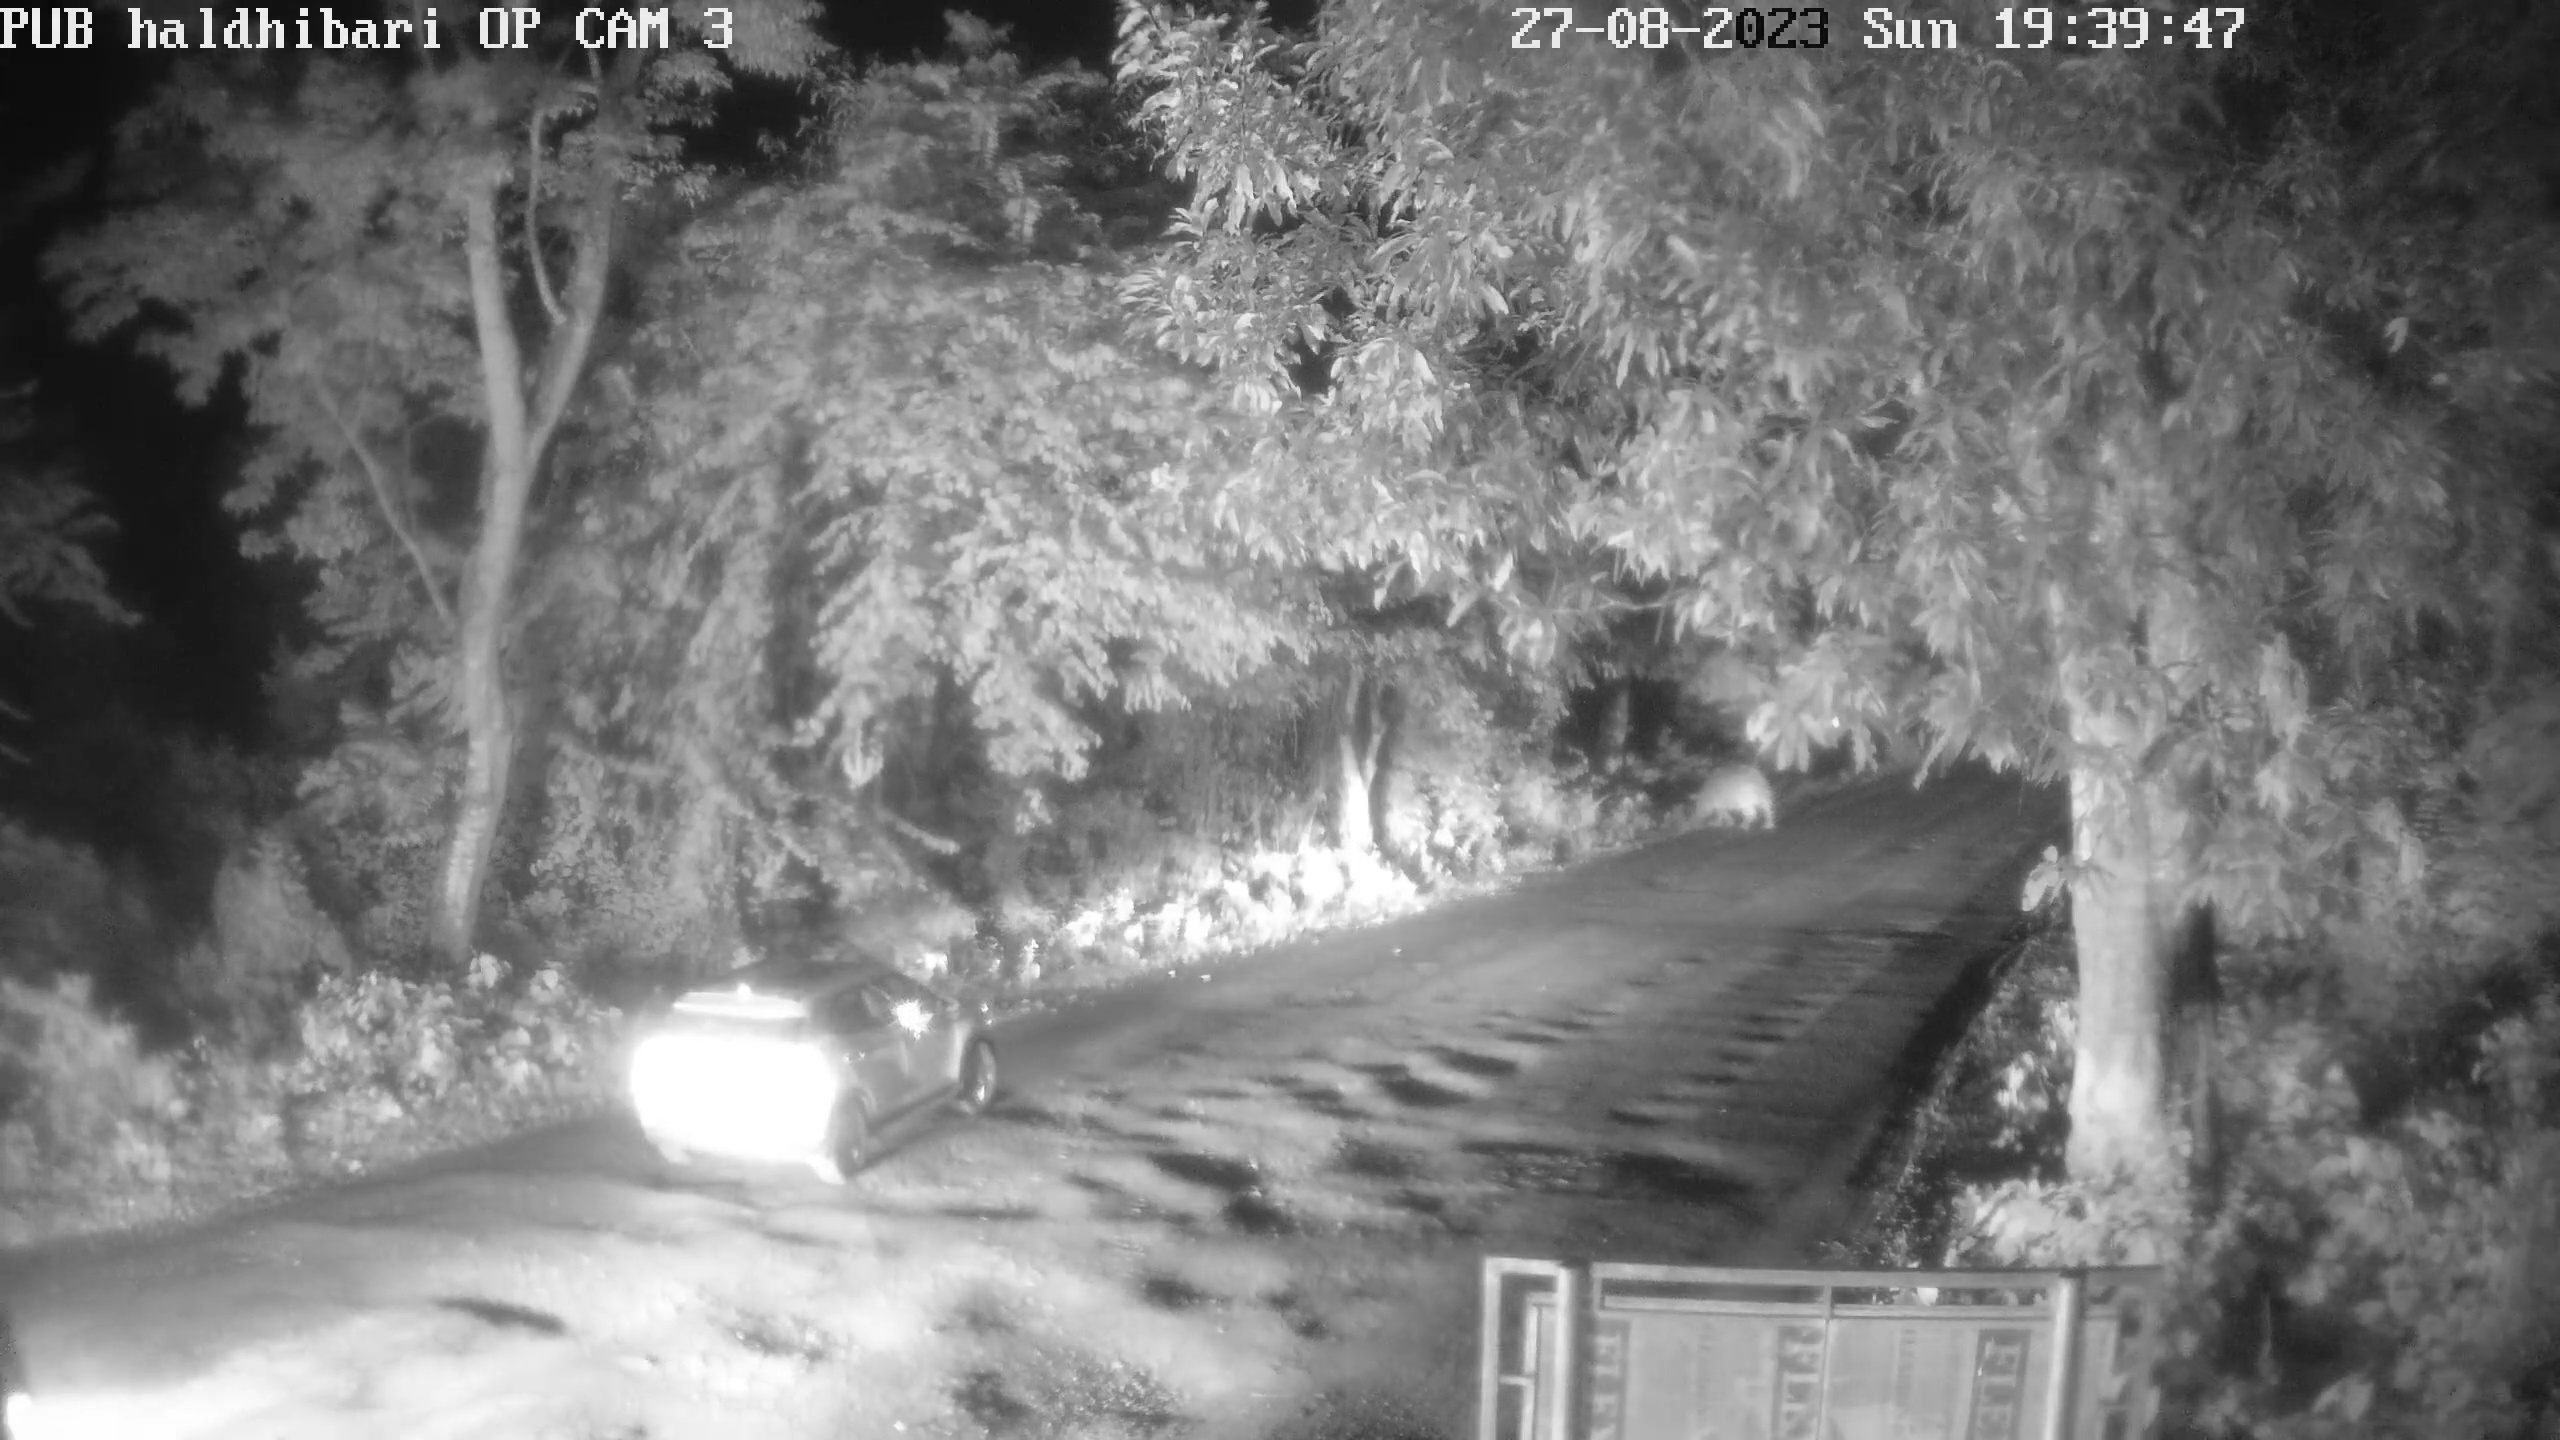rhinos: (1672, 758, 1779, 833)
